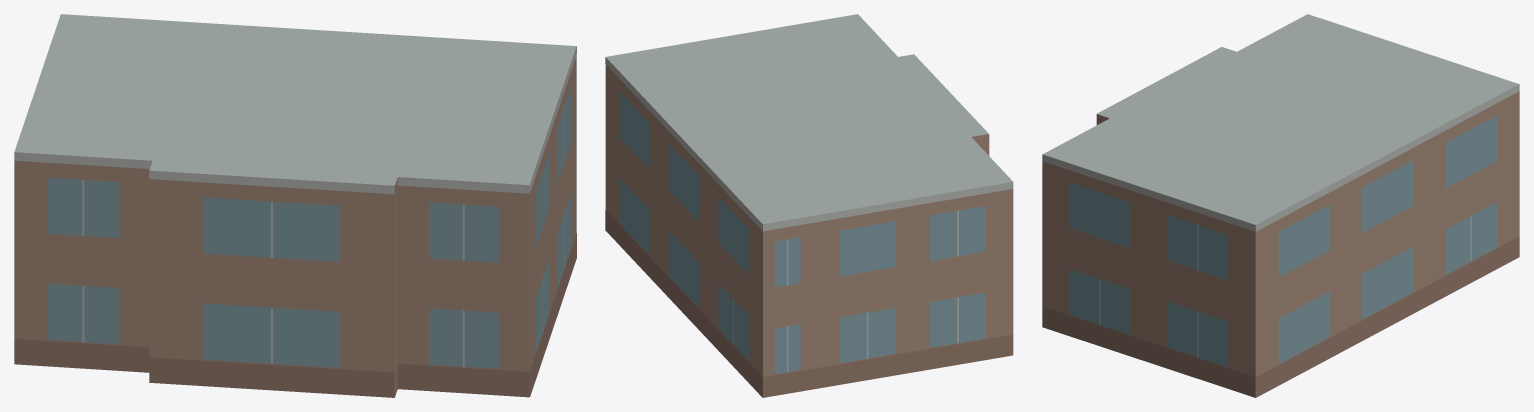
File: survey-upis-32831612.glb
3 views of the same model, side by side, from view 1: azimuth 30°, elevation 25°; view 2: azimuth 150°, elevation 25°; view 3: azimuth 270°, elevation 25° (orthographic). The views are drawn at different scales.
Parts seen in each view (by area): view 1: survey-upis-32831612.tmp; view 2: survey-upis-32831612.tmp; view 3: survey-upis-32831612.tmp.
Boxes of the visible parts, bbox=[...] form: survey-upis-32831612.tmp: bbox=[14, 14, 576, 397]; survey-upis-32831612.tmp: bbox=[605, 14, 1013, 397]; survey-upis-32831612.tmp: bbox=[1042, 14, 1519, 397].
Size of the model in its own units: 15.98 by 6.1 by 15.27.
